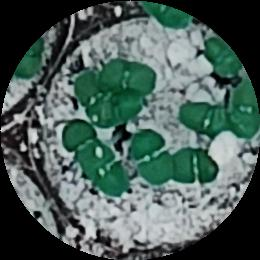Basil: (55, 120, 109, 166), (133, 133, 173, 188), (101, 58, 155, 97), (84, 159, 128, 204), (79, 77, 119, 126), (196, 40, 242, 81), (175, 149, 222, 187), (101, 88, 145, 128), (229, 79, 258, 139), (186, 98, 230, 137)
